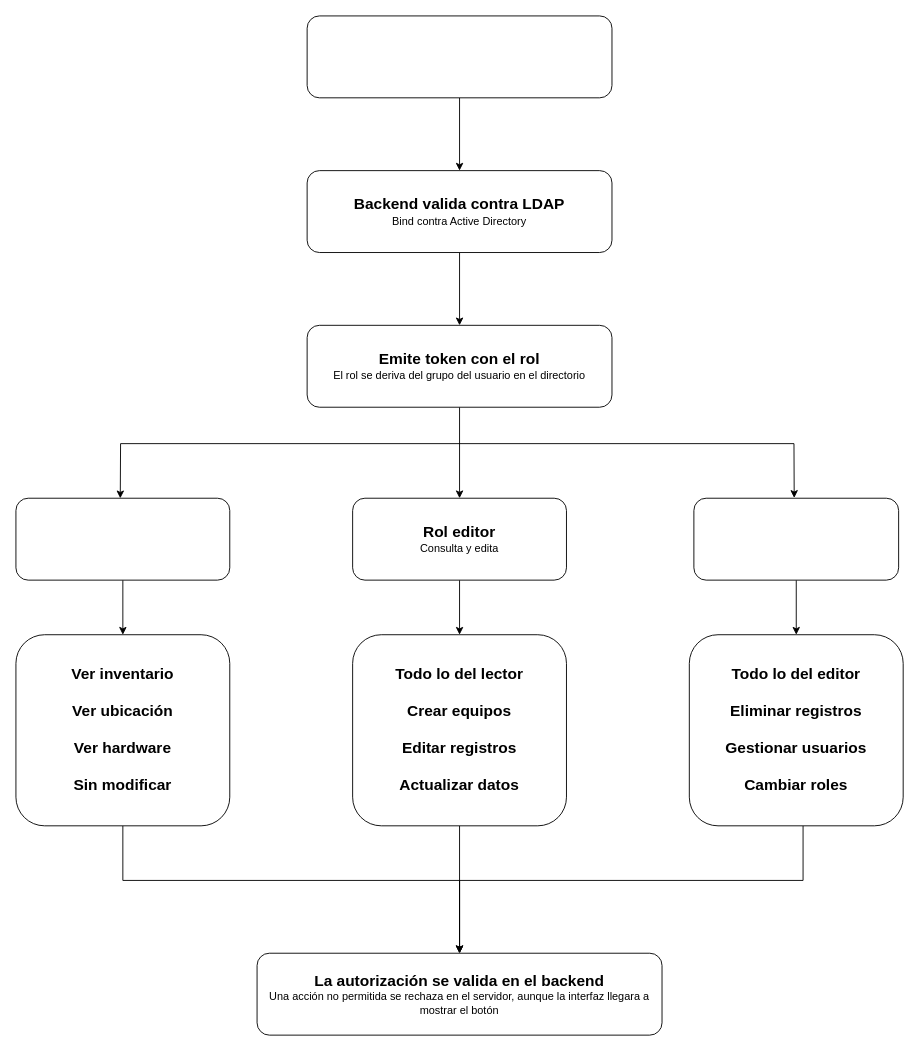
This 919x1051 diagram has some shape labels left out. The shapes that lost their labels are listed below. From the top down, each one's centre as x and y in pixels, then its label:
the point at 459,56: Usuario ingresa credenciales En la interfaz web
the point at 122,538: Rol lector Solo consulta
the point at 796,538: Rol administrador Control total
